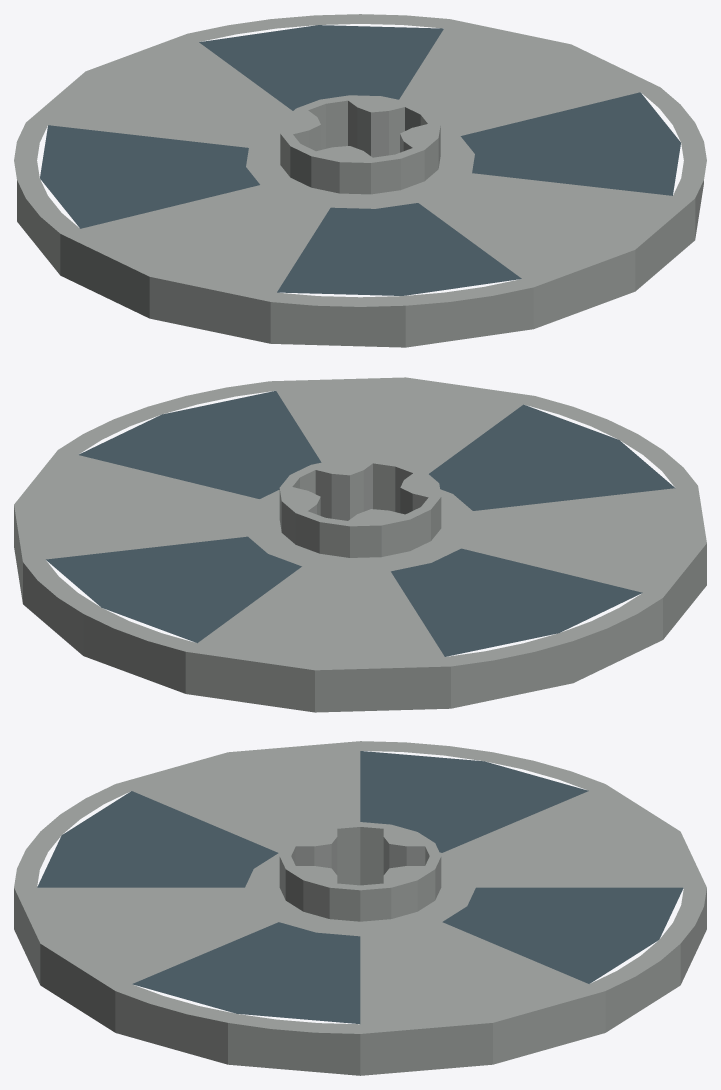
The picture shows the model from 3 angles, top to bottom: view 1: azimuth 30°, elevation 25°; view 2: azimuth 150°, elevation 25°; view 3: azimuth 270°, elevation 25°; orthographic projection.
Parts seen in each view (by area): view 1: world; view 2: world; view 3: world.
Part boxes in pixels (x1,y1,x2,y2): world: (14,14,706,347); world: (14,377,706,712); world: (14,741,706,1075).
Bounding box in the file's own units: 0.024 × 0.004 × 0.024.
